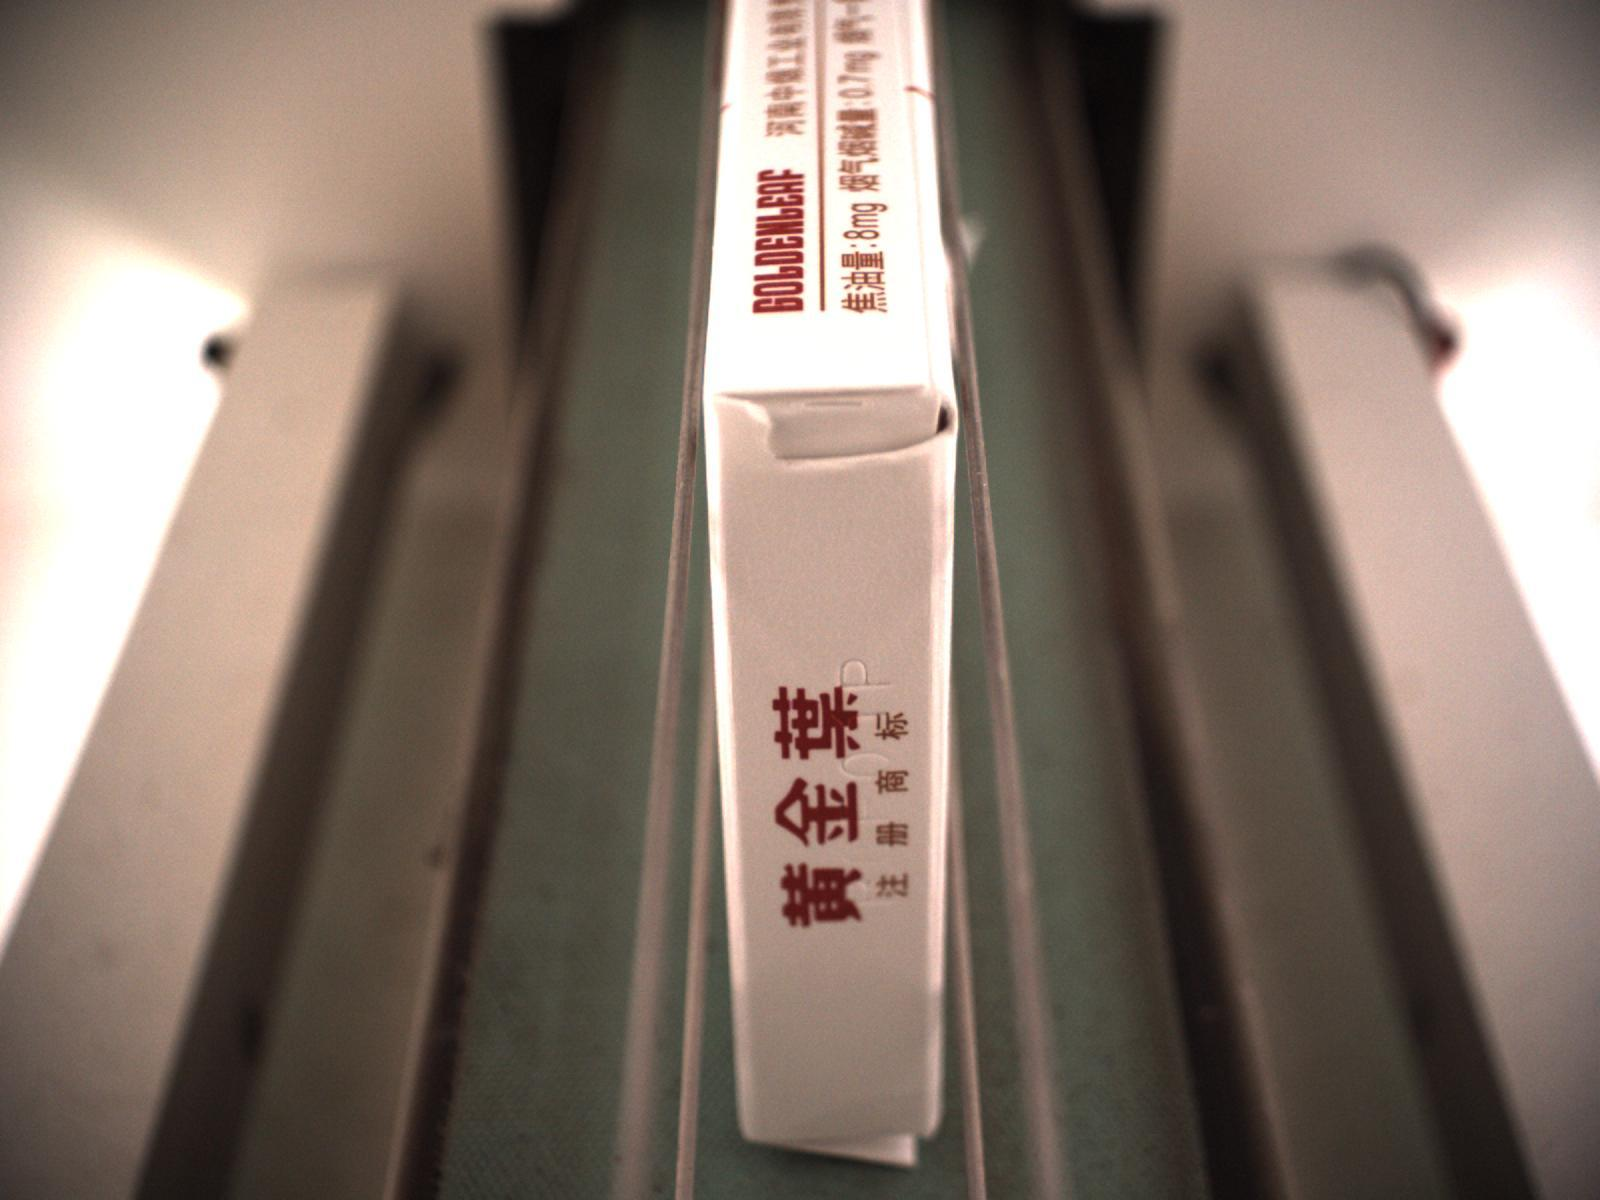cornerBreak: (704, 371, 960, 476)
skewed_bottom_3: (742, 1121, 939, 1172)
